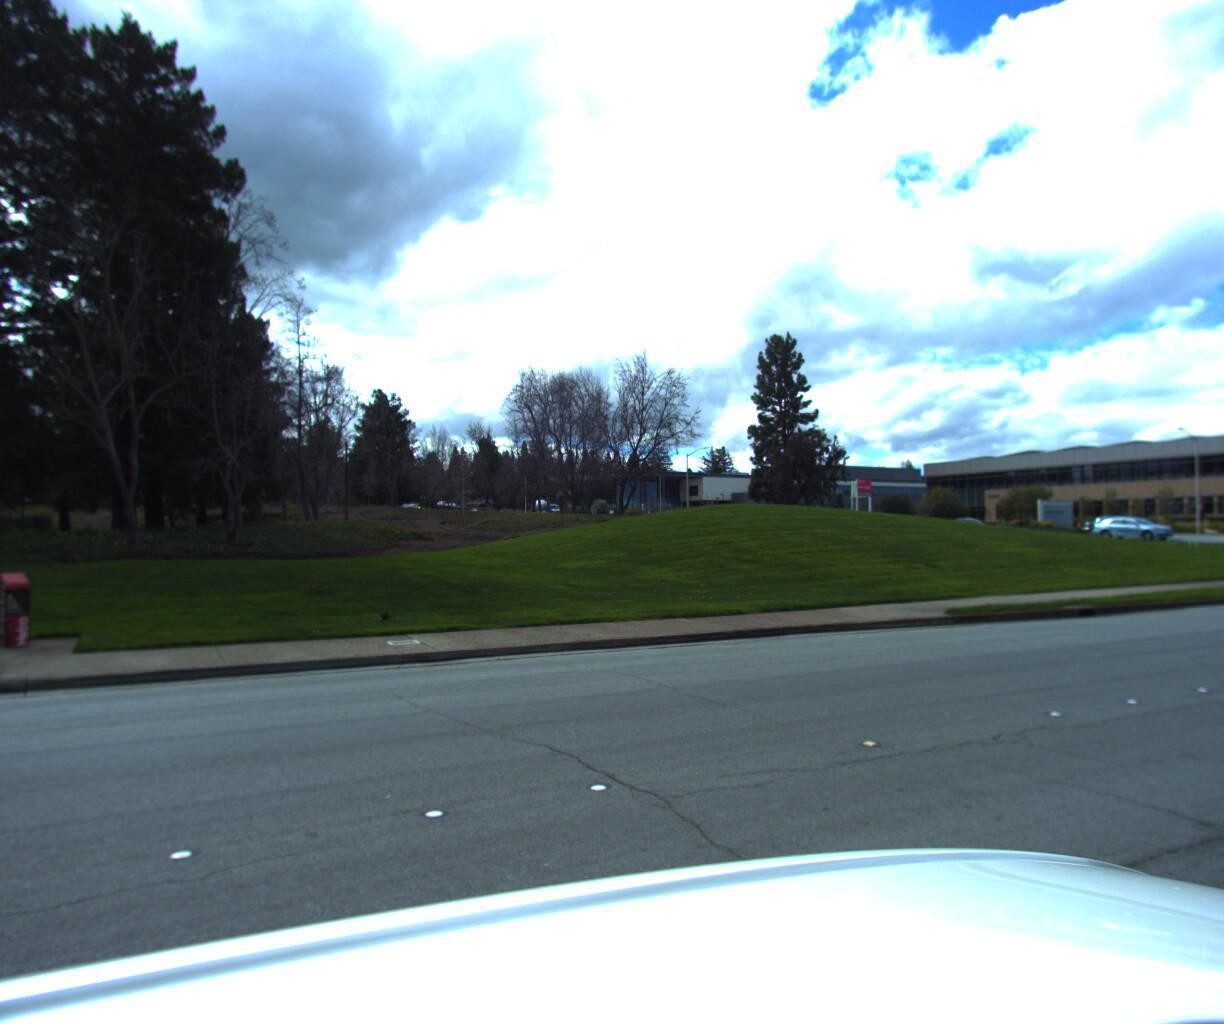car: (1085, 524, 1175, 547)
